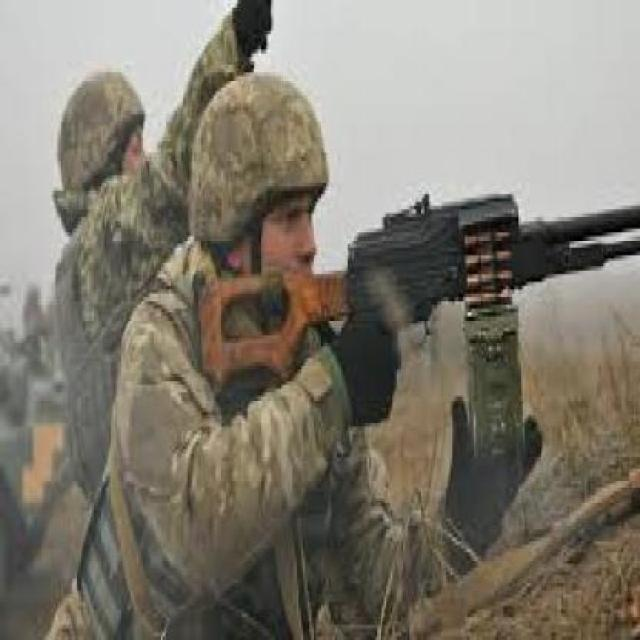weapon: (166, 193, 640, 398)
